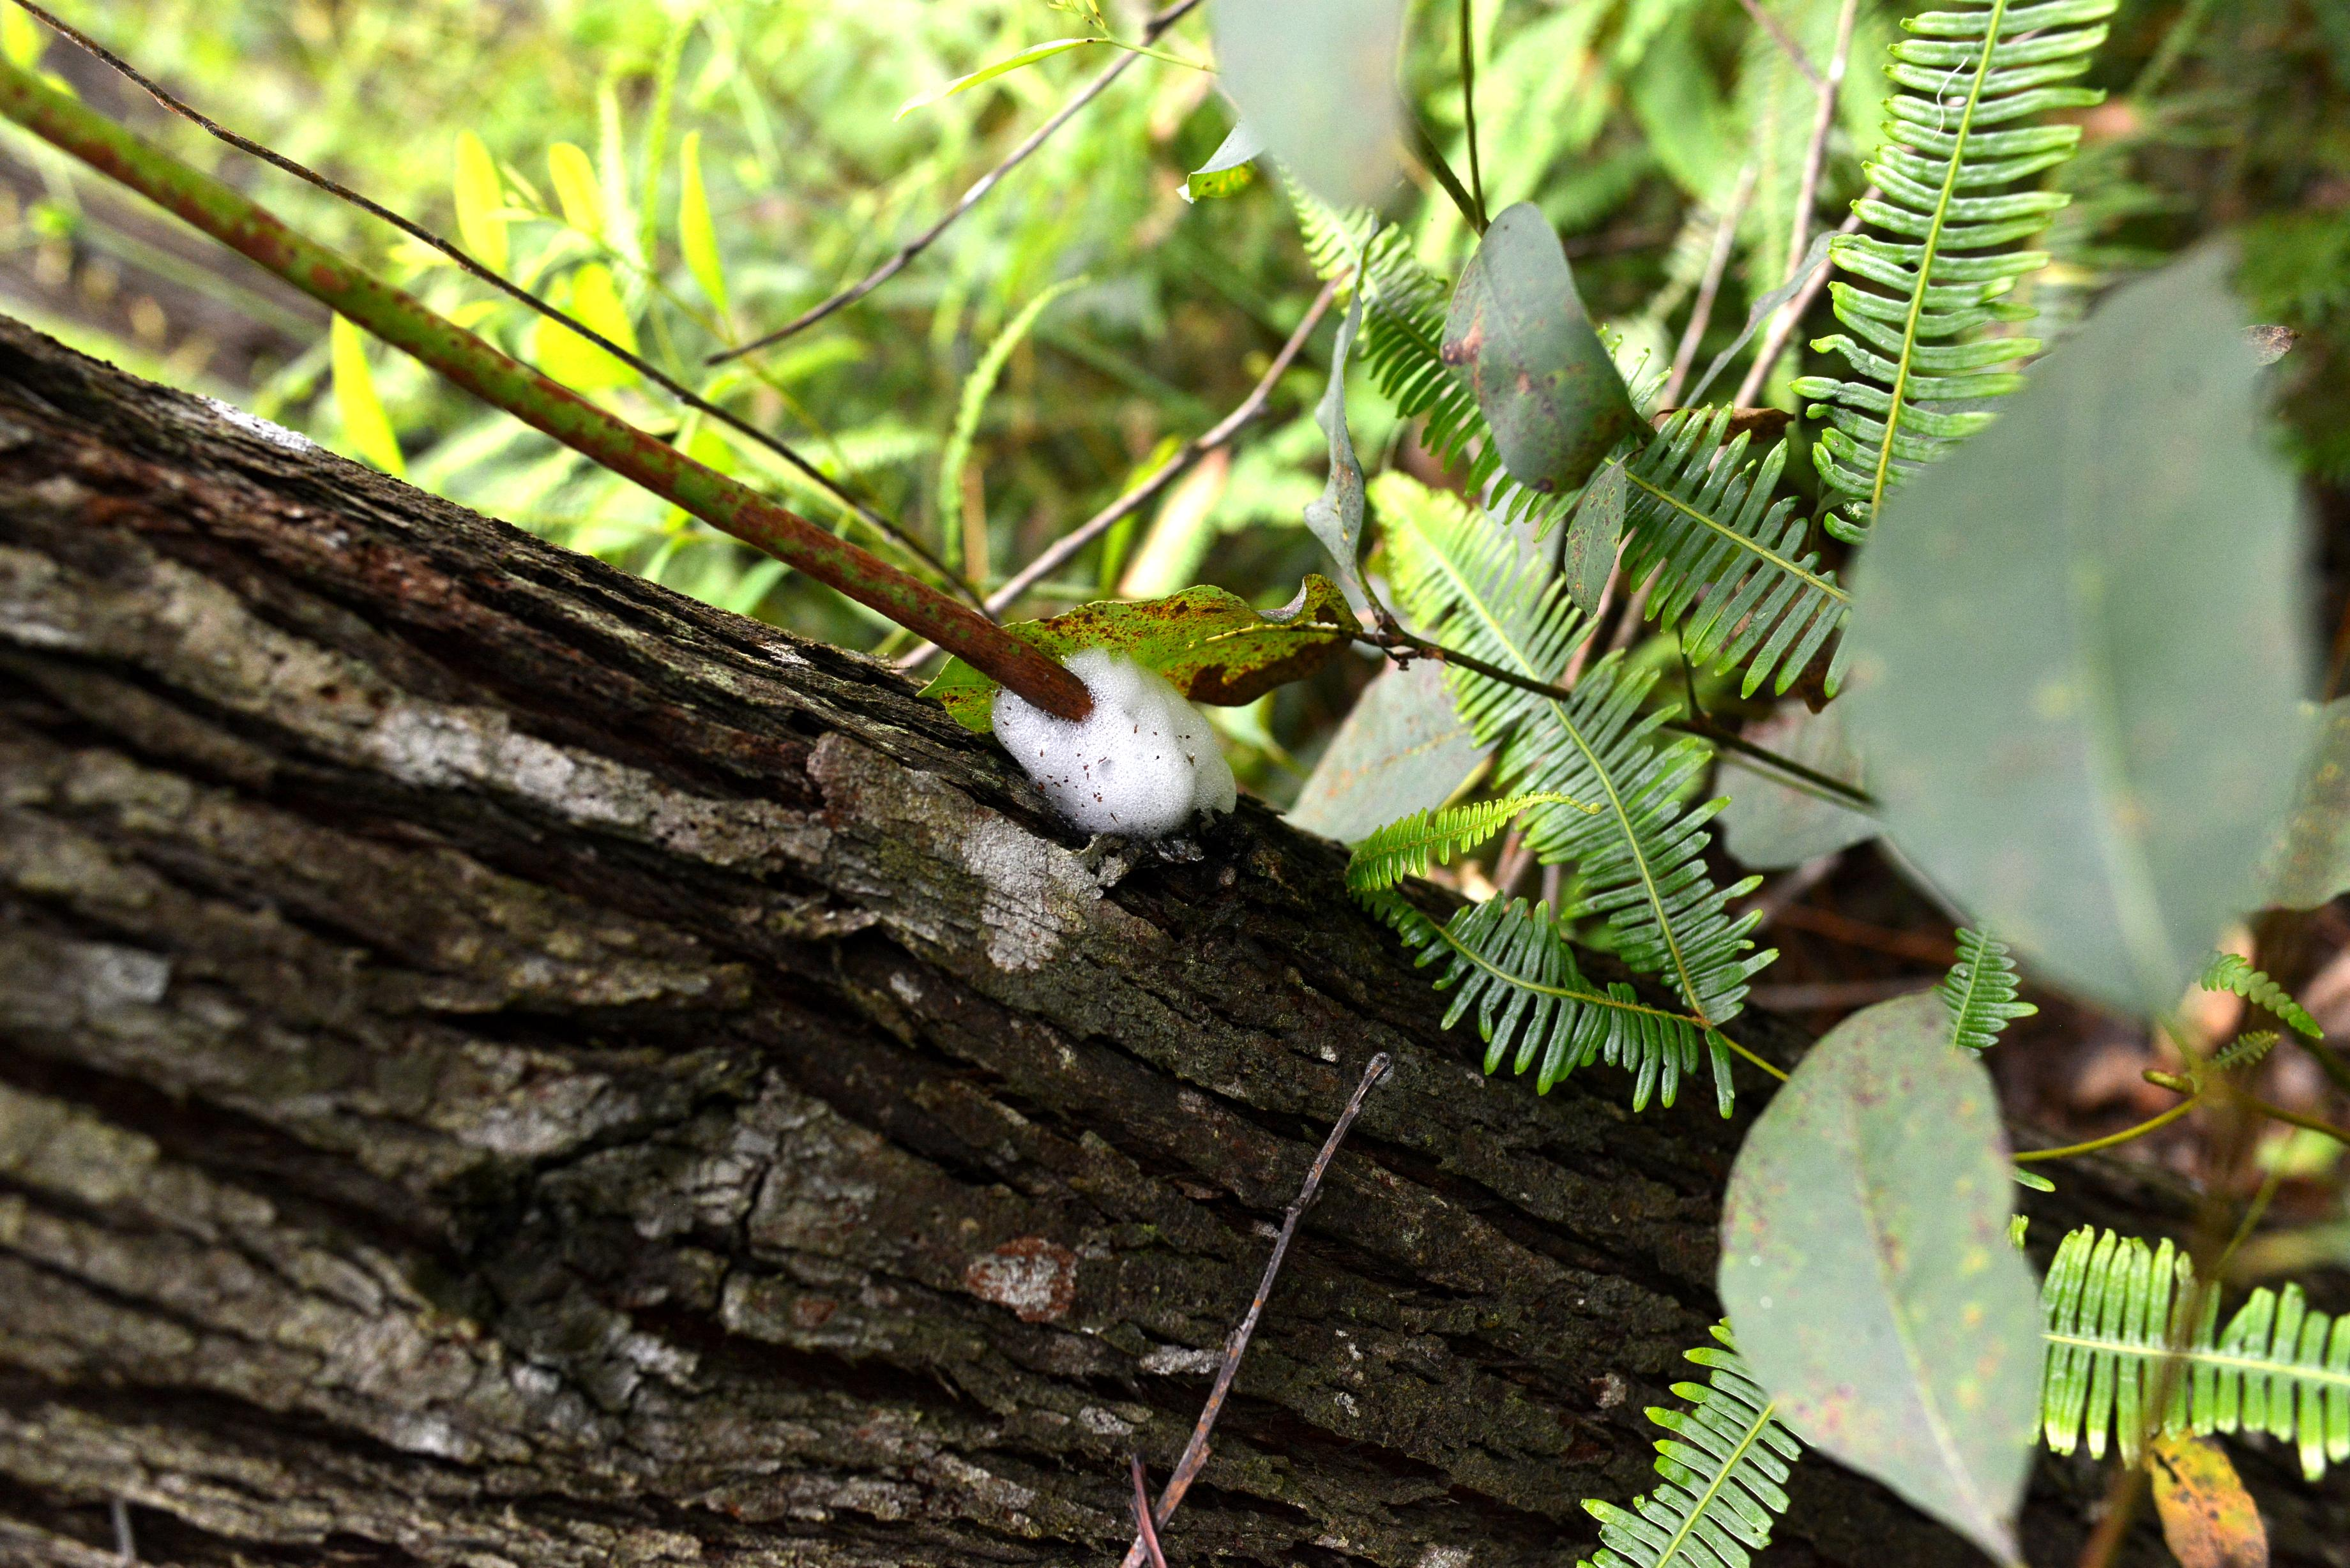Ceratocystis - Bubble: (943, 623, 1241, 856)
